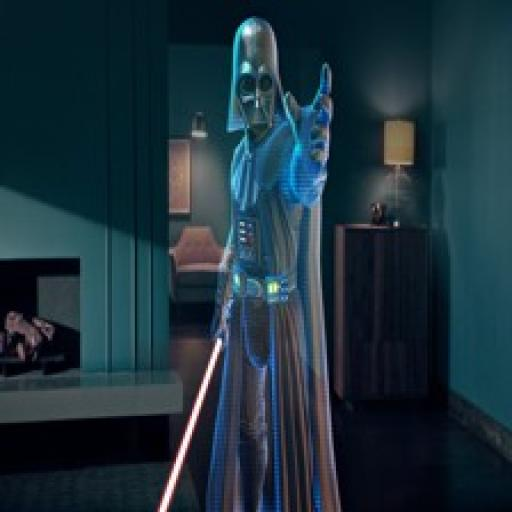human: (200, 16, 353, 512)
sith saber: (154, 287, 241, 512)
